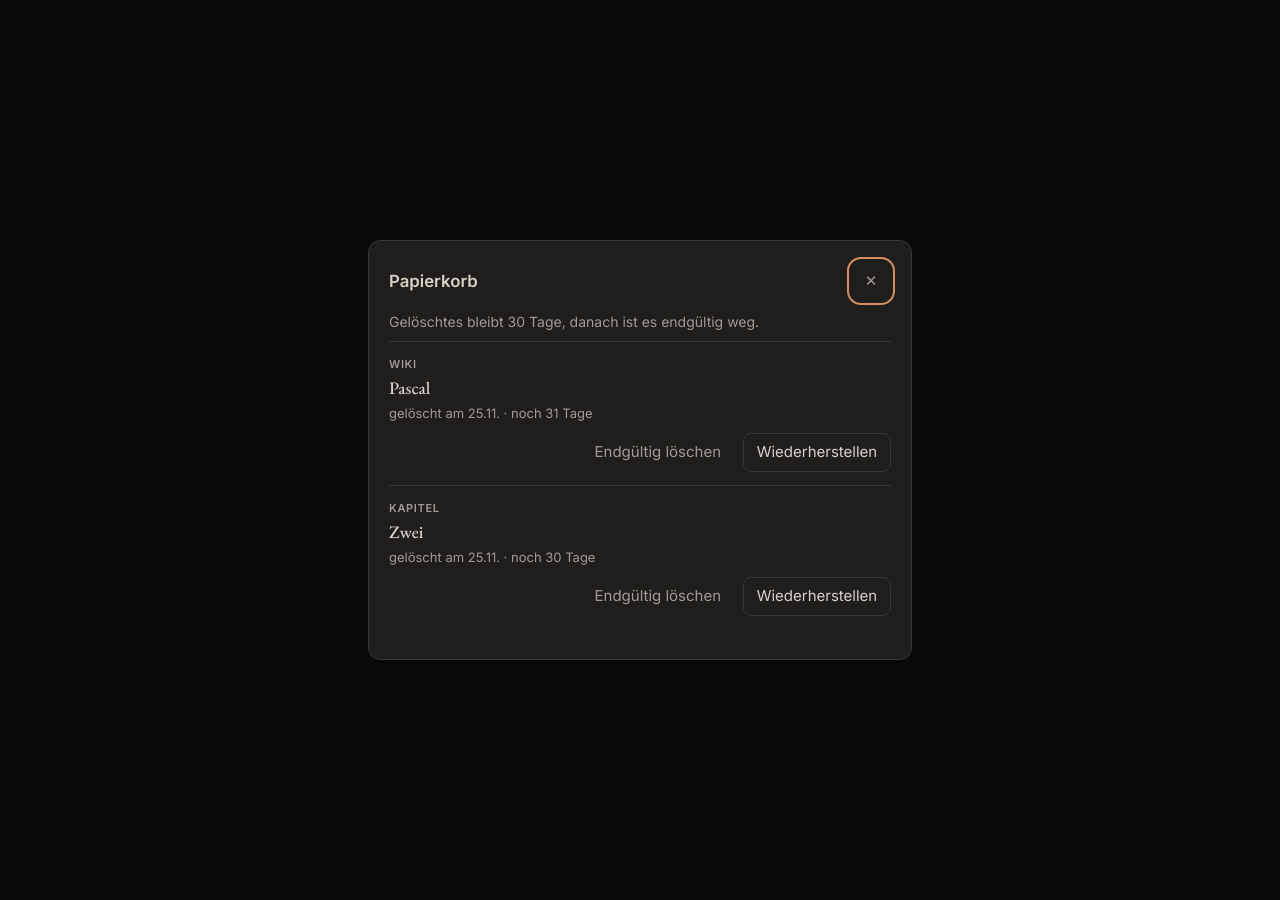
Test: a restore that finds nothing any more says so and shows the current list
The width and height of the screenshot is (1280, 900).
expect the text "Zwei" is shown: met, box [389,520,423,543]
What coordinates should you click on to do the following:
click the button with aria-label "„Zwei“ wiederherstellen"
I would click on:
 (817, 596)
Its box is [743,577,891,616].
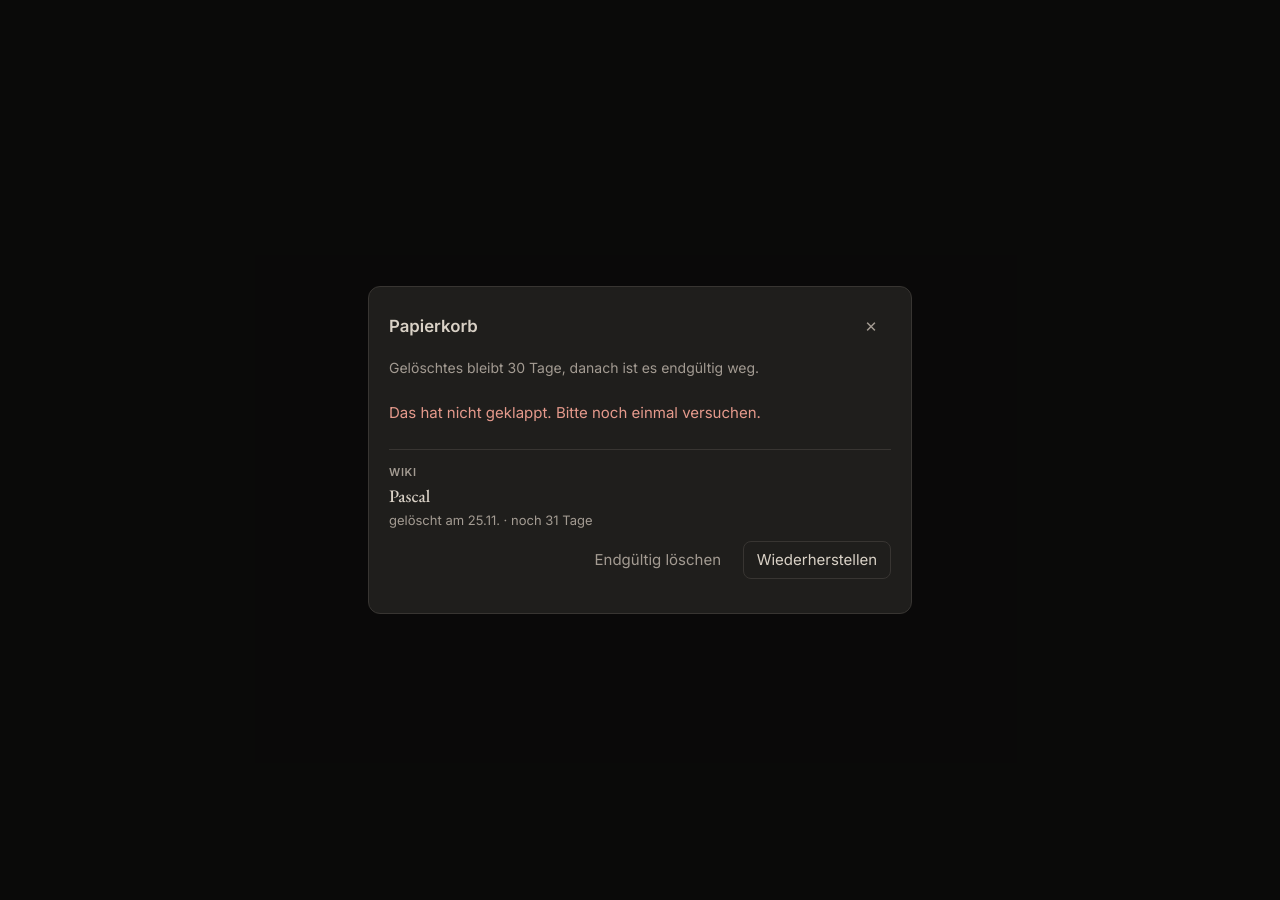
expect the message "Das hat nicht geklappt. Bitte noch einmal versuchen." is shown: met, box [389,403,761,422]
expect the text "Zwei" is gone: met
